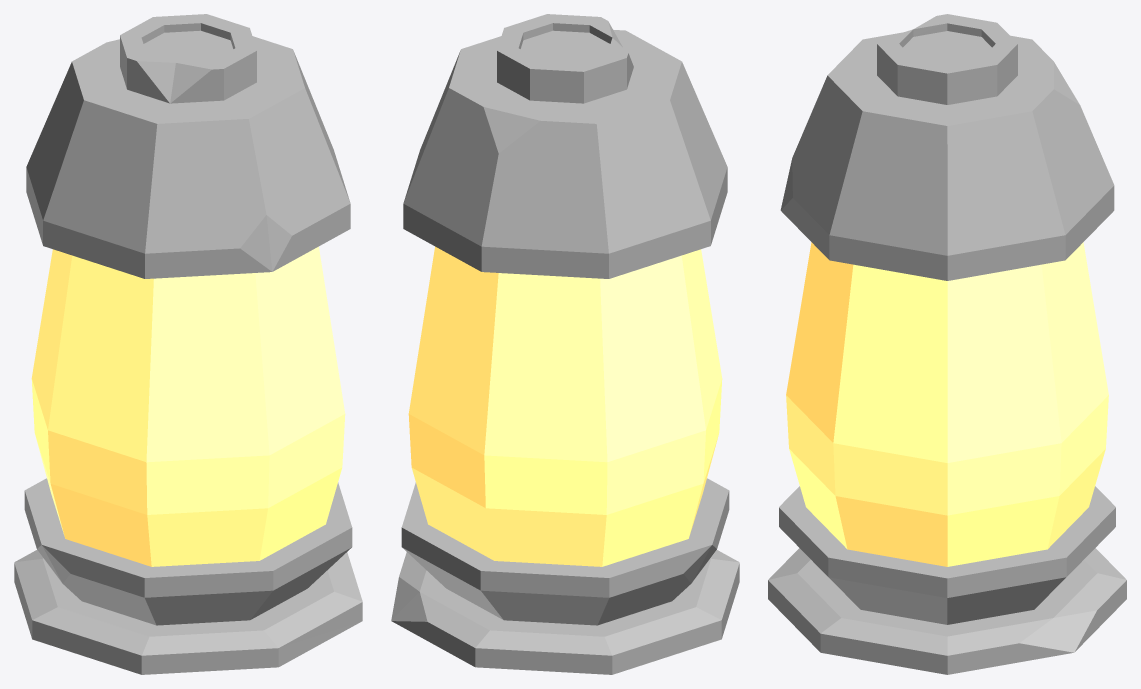
Rendered from Lamp.002.fbx.
The picture shows the model from 3 angles, left to right: view 1: azimuth 30°, elevation 25°; view 2: azimuth 150°, elevation 25°; view 3: azimuth 270°, elevation 25°; orthographic projection.
Visible parts, largest first — view 1: Lamp.002; view 2: Lamp.002; view 3: Lamp.002.
Part boxes in pixels (x1,y1,x2,y2): Lamp.002: [14, 14, 362, 674]; Lamp.002: [391, 14, 739, 674]; Lamp.002: [768, 14, 1126, 674].
Size of the model in its own units: 19.47 by 34.89 by 19.47.
